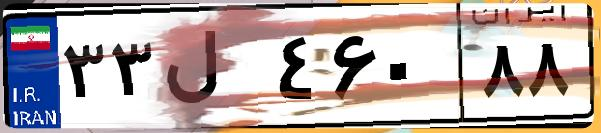0: (385, 28, 445, 110)
3: (57, 26, 110, 100), (110, 28, 158, 98)
4: (270, 28, 330, 110)
6: (330, 28, 385, 110)
8: (475, 38, 525, 113), (525, 38, 570, 115)
ل: (158, 20, 270, 120)
